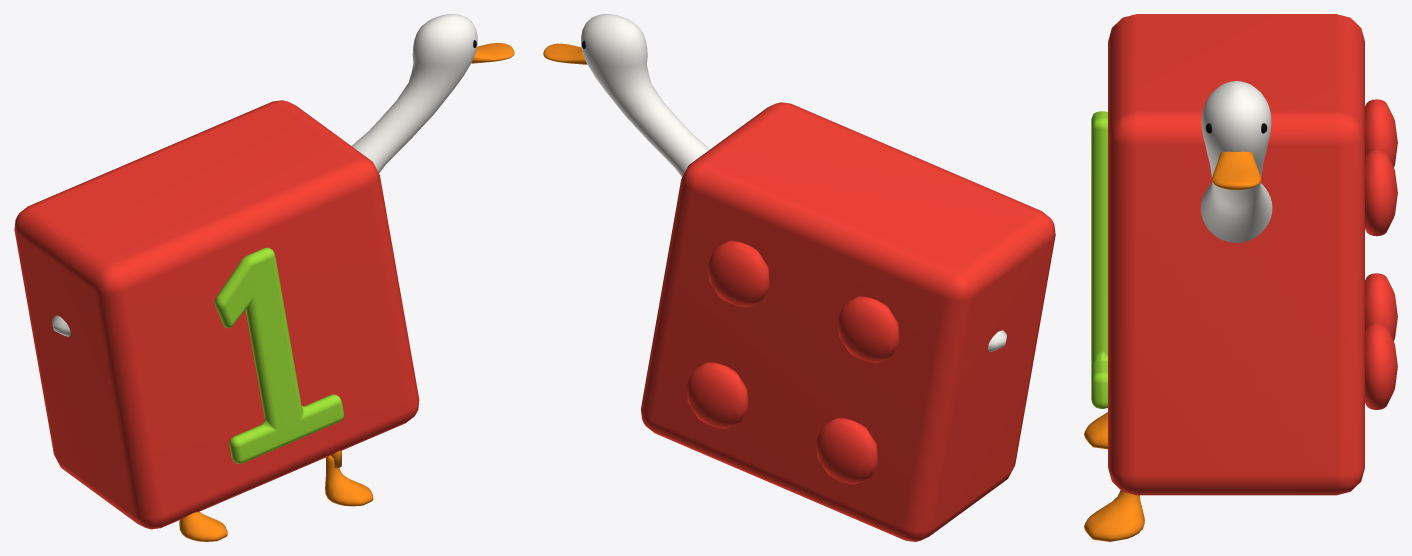
The model's file is duck-numberblock.glb.
3 renders of one model, left to right at view 1: azimuth 30°, elevation 25°; view 2: azimuth 150°, elevation 25°; view 3: azimuth 270°, elevation 25°, orthographic. The views are drawn at different scales.
Parts seen in each view (by area): view 1: duck-numberblock; view 2: duck-numberblock; view 3: duck-numberblock.
Part boxes in pixels (x1,y1,x2,y2): duck-numberblock: [14, 14, 514, 541]; duck-numberblock: [543, 14, 1055, 541]; duck-numberblock: [1084, 14, 1397, 541].
Size of the model in its own units: 1 by 0.8695 by 0.4595.
1 material, 1 textured.
